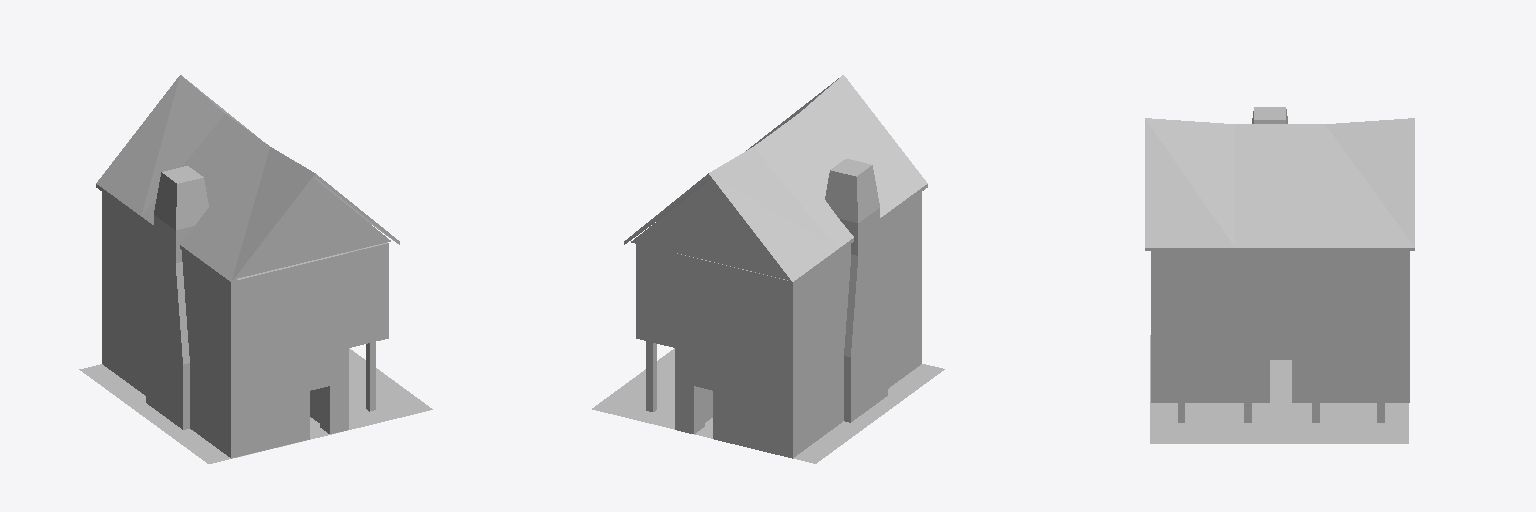
The model's file is Shambles2Coll.obj.
3 views of the same model, side by side, from view 1: azimuth 30°, elevation 25°; view 2: azimuth 150°, elevation 25°; view 3: azimuth 270°, elevation 25° (orthographic).
Visible parts, largest first — view 1: 11_-_Default, default; view 2: 11_-_Default, default; view 3: 11_-_Default, default.
Part boxes in pixels (x1,y1,x2,y2): 11_-_Default: (79, 75, 432, 463); default: (102, 192, 388, 458); 11_-_Default: (592, 75, 944, 463); default: (636, 192, 921, 458); 11_-_Default: (1145, 107, 1414, 443); default: (1151, 251, 1409, 402).
Size of the model in its own units: 76 by 86.66 by 79.18.